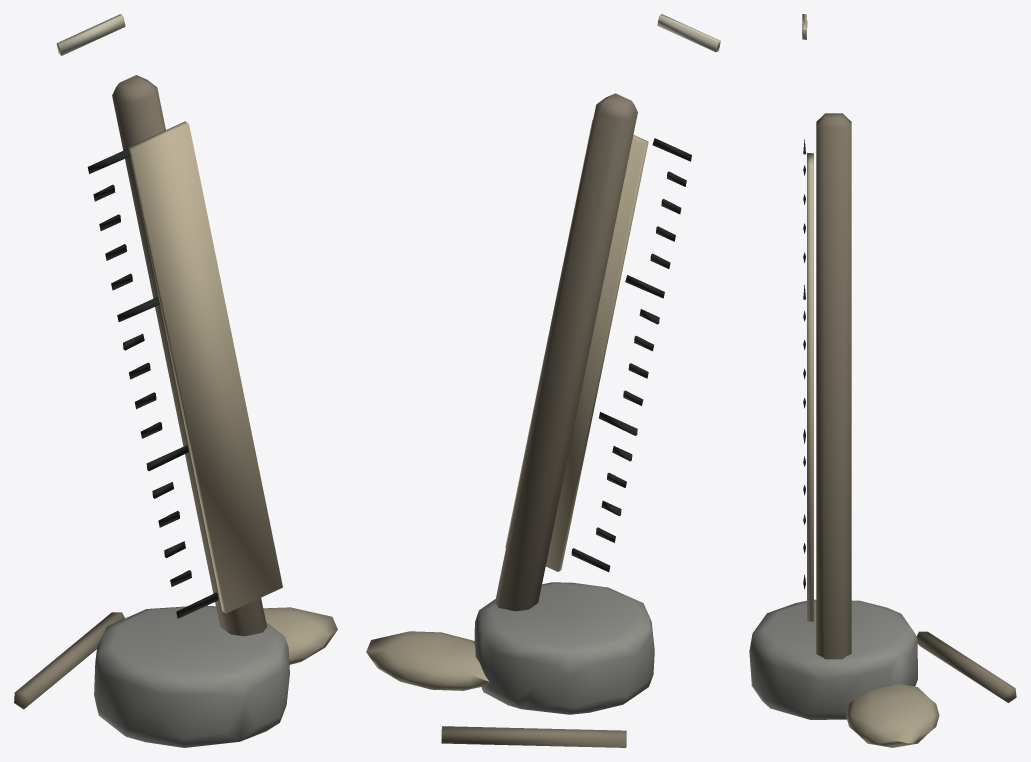
Rendered from staff_gauge_b_lod1.glb.
The picture shows the model from 3 angles, left to right: view 1: azimuth 30°, elevation 25°; view 2: azimuth 150°, elevation 25°; view 3: azimuth 270°, elevation 25°; orthographic projection. The views are drawn at different scales.
Visible parts, largest first — view 1: Surface.001; view 2: Surface.001; view 3: Surface.001.
Boxes of the visible parts, bbox=[...] form: Surface.001: bbox=[14, 14, 337, 747]; Surface.001: bbox=[366, 14, 720, 747]; Surface.001: bbox=[749, 14, 1016, 747].
Size of the model in its own units: 1.1 by 2.37 by 0.9106.
